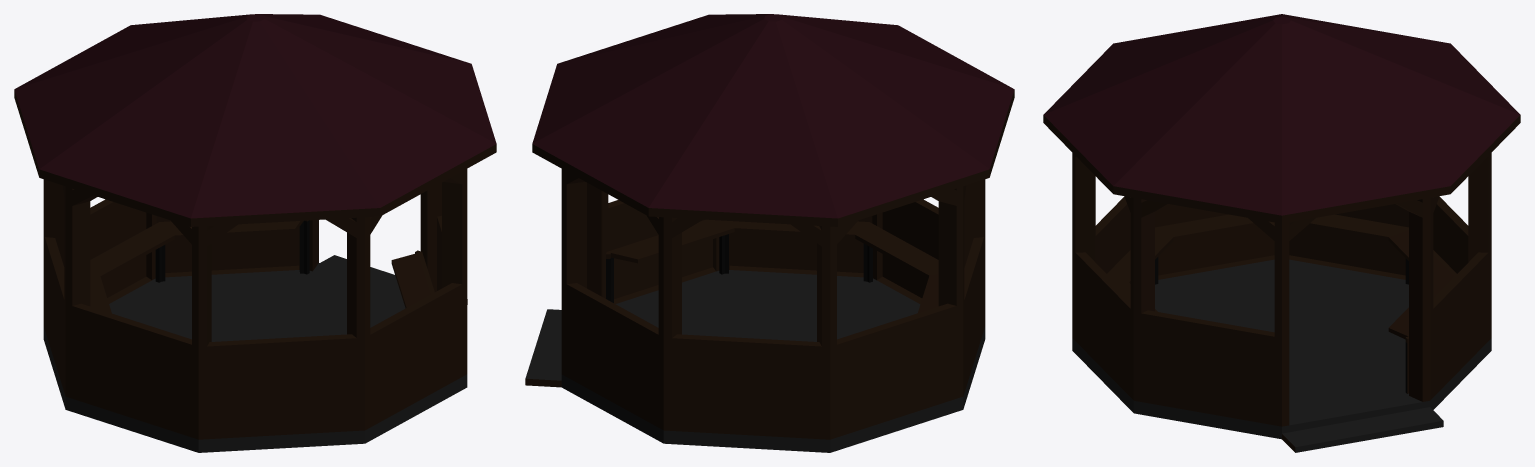
Rendered from gazebo.obj.
The picture shows the model from 3 angles, left to right: view 1: azimuth 30°, elevation 25°; view 2: azimuth 150°, elevation 25°; view 3: azimuth 270°, elevation 25°; orthographic projection. The views are drawn at different scales.
Visible parts, largest first — view 1: Circle_Circle.001; view 2: Circle_Circle.001; view 3: Circle_Circle.001.
Boxes of the visible parts, x1,y1,x2,y2 form: Circle_Circle.001: (14, 14, 496, 452); Circle_Circle.001: (525, 14, 1014, 452); Circle_Circle.001: (1043, 14, 1520, 452).
Bounding box in the file's own units: 3.44 × 2.61 × 3.42.
